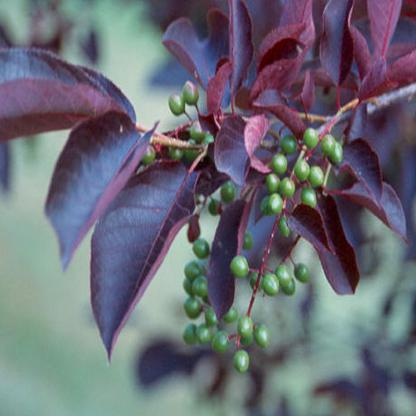cherry leaf: (88, 135, 201, 384), (203, 184, 264, 338), (296, 182, 365, 311), (209, 96, 272, 194), (280, 188, 340, 258), (335, 140, 386, 220)
